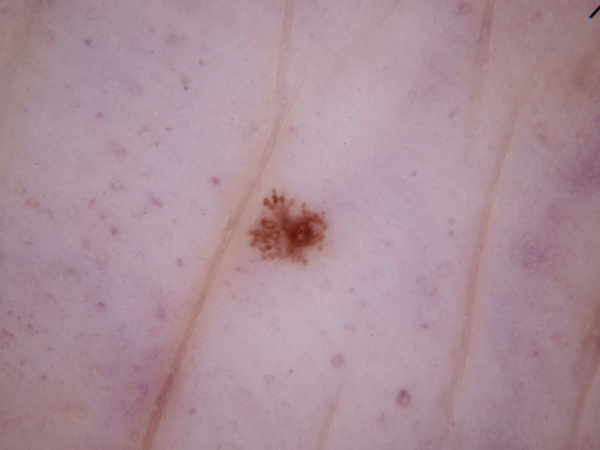Detected Lesion: (246, 186, 335, 269)
